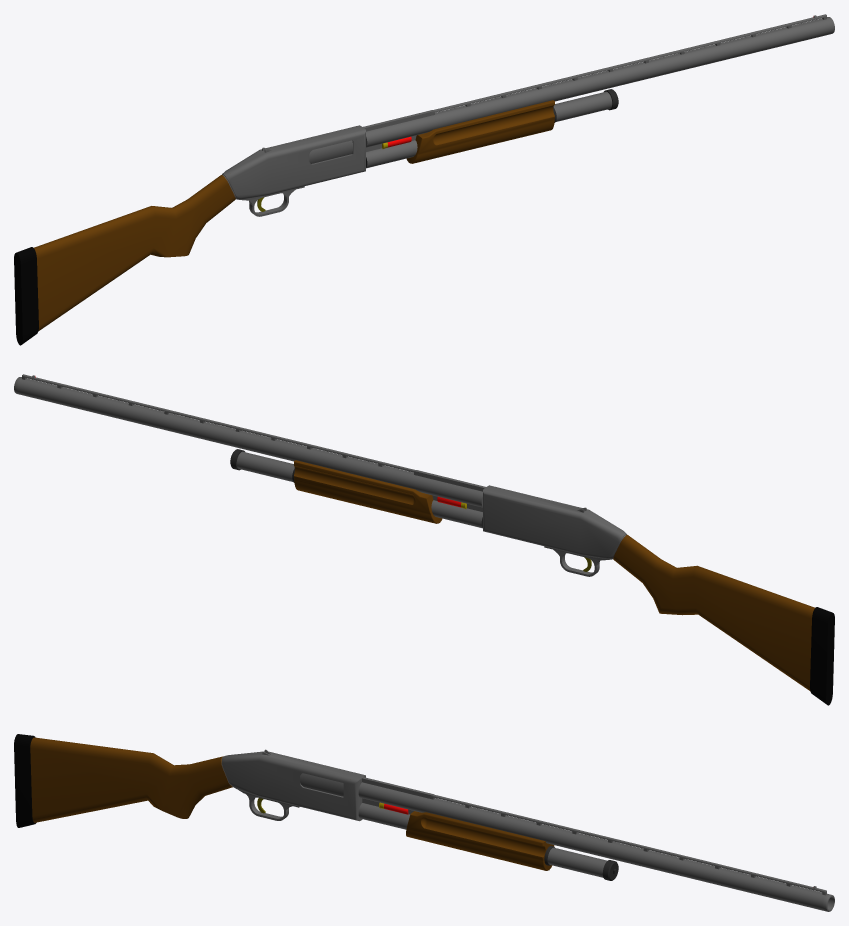
The model's file is MOSSBERG_500.glb.
The picture shows the model from 3 angles, top to bottom: view 1: azimuth 30°, elevation 25°; view 2: azimuth 150°, elevation 25°; view 3: azimuth 330°, elevation 25°; orthographic projection.
Parts seen in each view (by area): view 1: Body, Barrel, Pump, Bottom Barrel, Handle; view 2: Body, Barrel, Pump, Bottom Barrel; view 3: Body, Barrel, Pump, Bottom Barrel, Handle, Guard.
Boxes of the visible parts, <box> form: Body: <box>14,125,365,345</box>; Barrel: <box>363,14,834,147</box>; Pump: <box>406,100,556,163</box>; Bottom Barrel: <box>366,89,618,168</box>; Handle: <box>309,140,352,163</box>; Body: <box>483,485,834,705</box>; Barrel: <box>14,374,485,507</box>; Pump: <box>292,460,442,523</box>; Bottom Barrel: <box>230,449,482,528</box>; Body: <box>14,734,365,827</box>; Barrel: <box>358,777,834,911</box>; Pump: <box>406,811,554,870</box>; Bottom Barrel: <box>358,803,618,880</box>; Handle: <box>300,773,343,796</box>; Guard: <box>246,794,292,820</box>.
Size of the model in its own units: 5.76 by 0.9248 by 0.1493.
10 materials, 9 textured.
